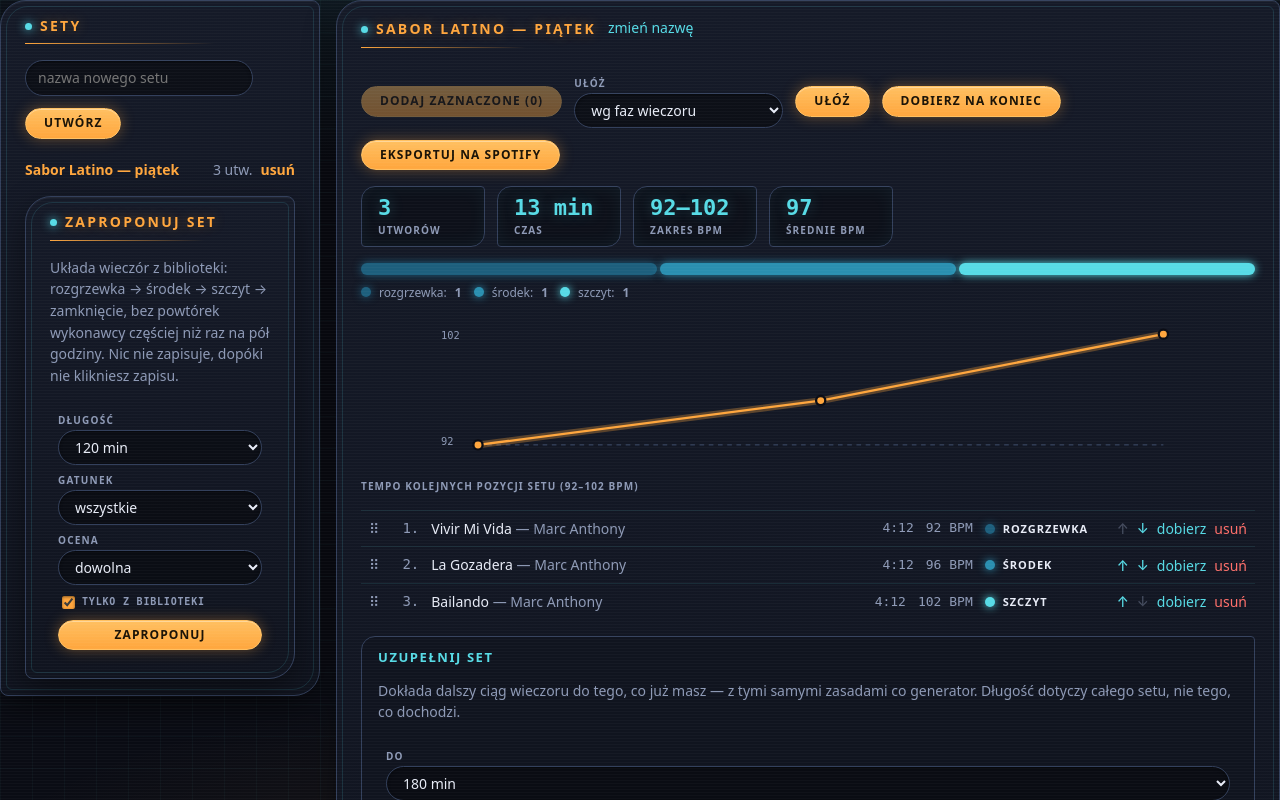
Test: SetsView — układanie i domykanie setu › „dobierz" przy utworze pyta o kandydatów na miejsce zaraz po nim
Click the button with aria-label "dobierz utwór po: La Gozadera".
click(1182, 565)  # box [1157,555,1206,576]
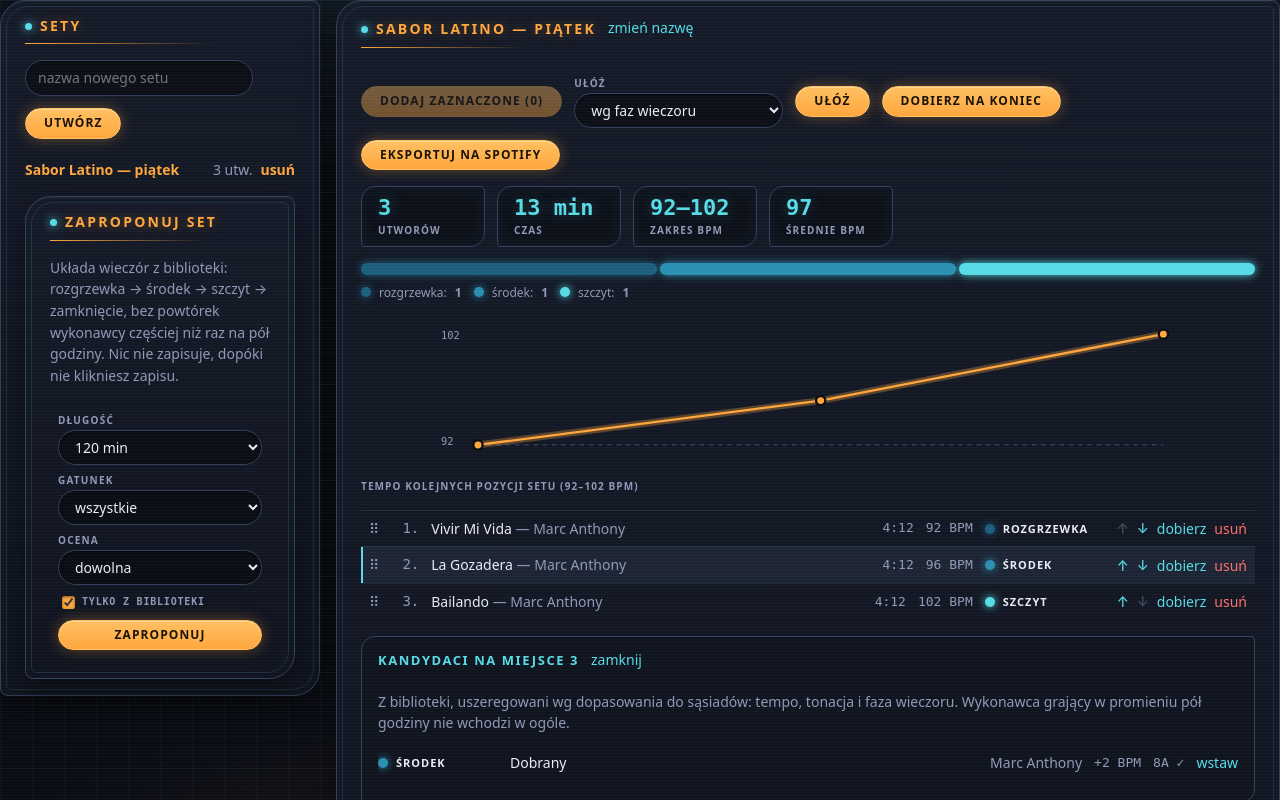
Now the heading "Kandydaci na miejsce 3" is shown, box [378,652,579,669]
